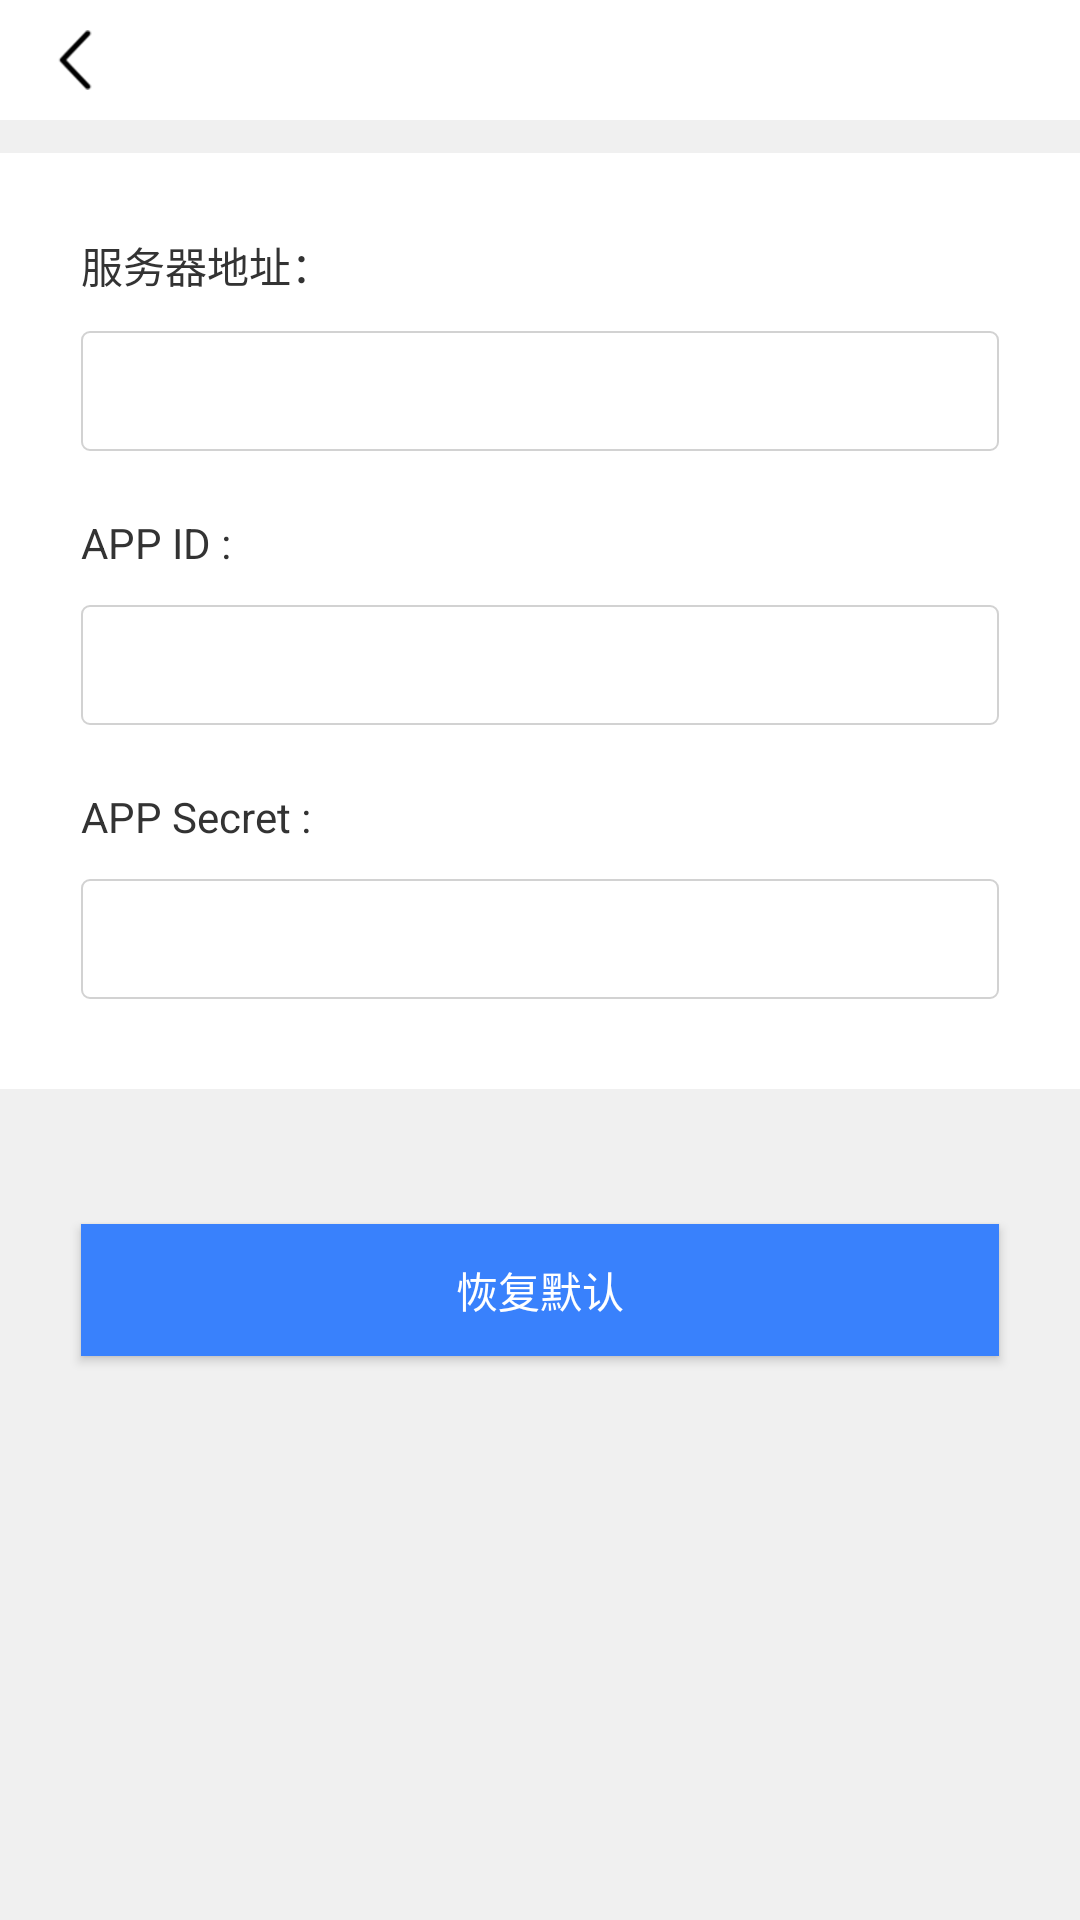

Screen size 1080×1920. Icon name, then its box in pixels as (x1, y1, x2, y2):
back: (59, 30, 92, 90)
